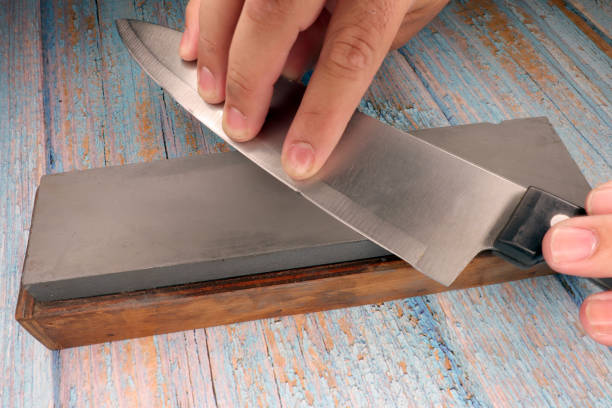knife: (112, 16, 612, 292)
